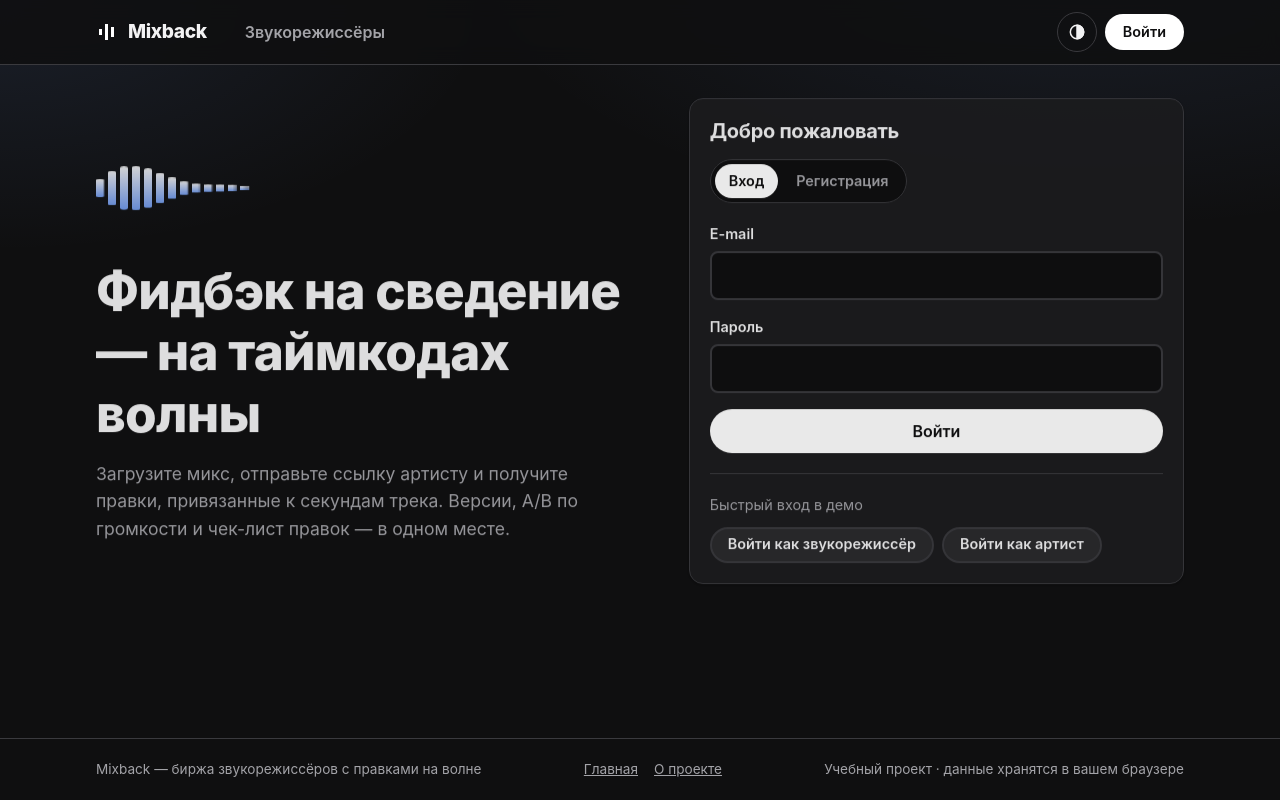
авторизация и защита маршрутов › форма входа › пустая отправка показывает ошибки по полям и не обращается к серверу
Step 1. Click the button "Войти" → {"x": 936, "y": 431}, box [710, 409, 1163, 453]
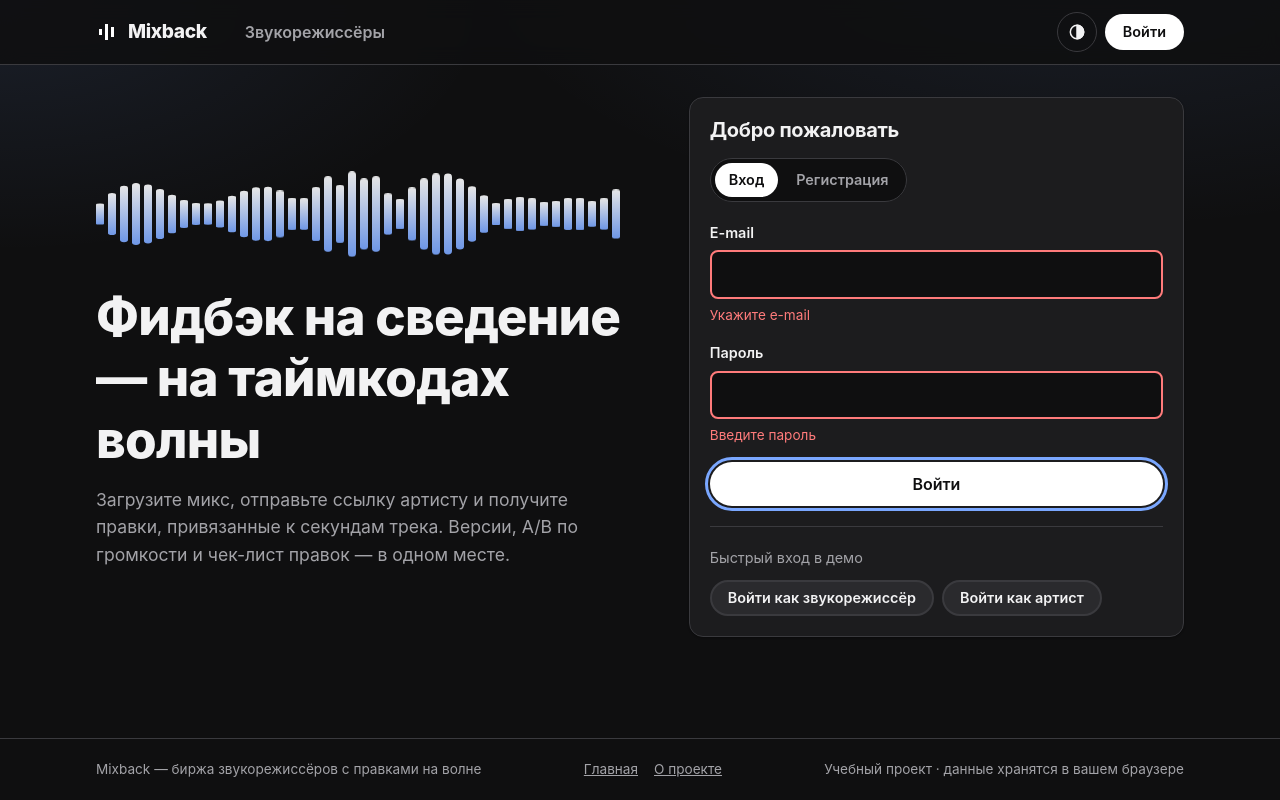
Check: the text "Укажите e-mail" is shown, box [710, 307, 810, 323]
Check: the text "Введите пароль" is shown, box [710, 427, 816, 443]
